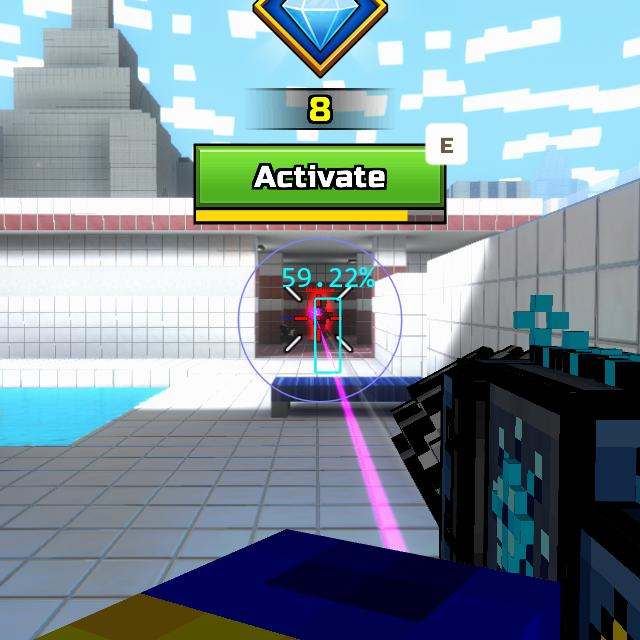Enemy: (312, 297, 332, 339)
